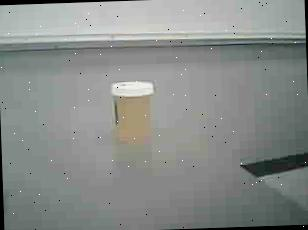Bottle B: (102, 73, 165, 150)
